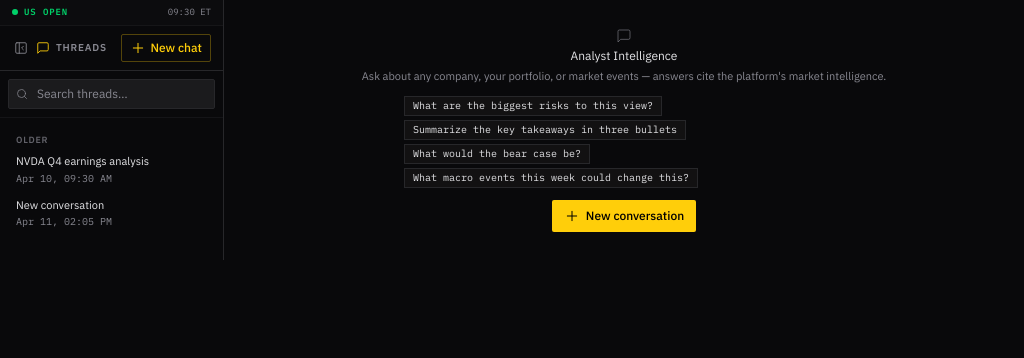
Scenario: Chat page — error state with Retry (Round 1 Foundation) › failed send surfaces an error banner with a Retry button that resubmits
This screenshot has width=1024, height=358.
Click the button with aria-label "start new chat": (166, 48) x1=121 y1=34 x2=211 y2=62
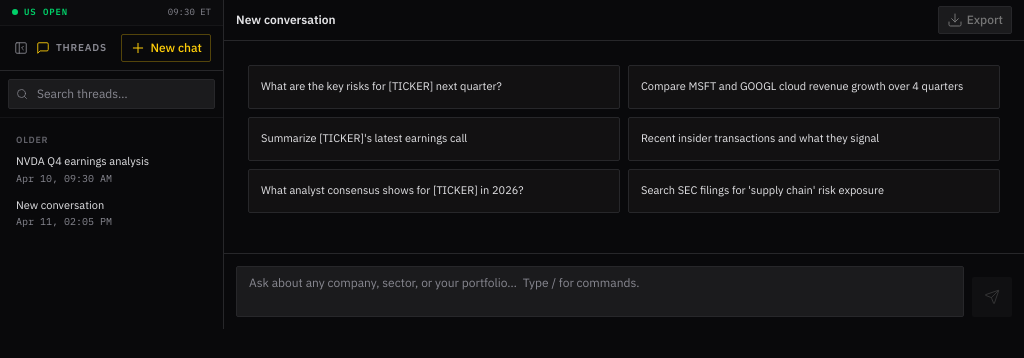
Replace the text in the text box named "chat message input" with "doomed question": (600, 291) x1=236 y1=266 x2=964 y2=317
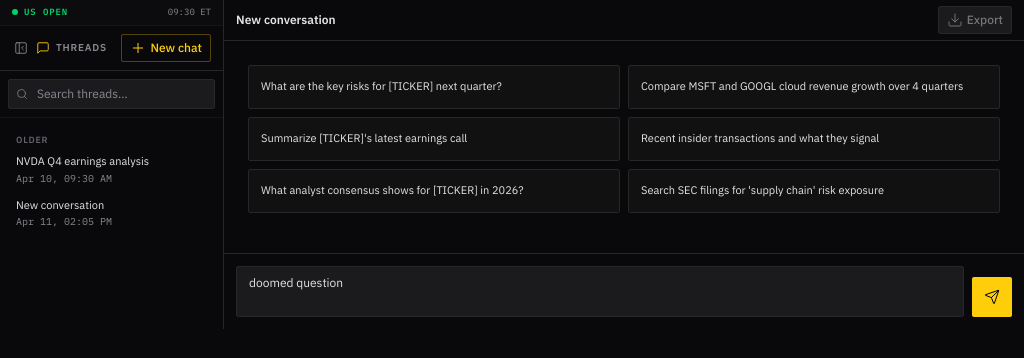
Press Enter in the text box named "chat message input", box x1=236 y1=266 x2=964 y2=317
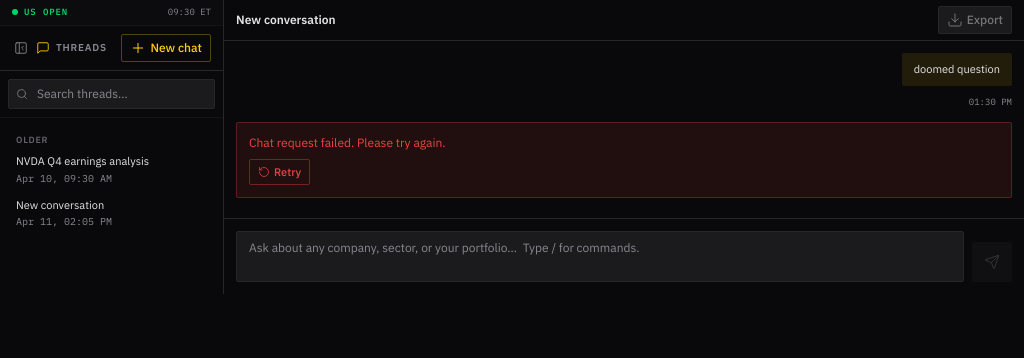
Expected: the message reads "Chat request failed. Please try again. Retry", x1=249 y1=134 x2=446 y2=150
// Retry resubmits the SAME question.
Click the button "Retry": (280, 172) x1=249 y1=158 x2=310 y2=184
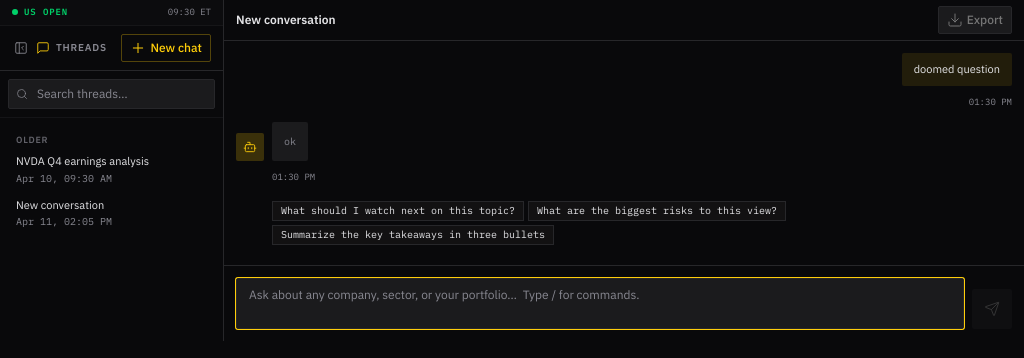
Expected: the text "doomed question" is shown, x1=914 y1=61 x2=1000 y2=78
Expected: the message "Chat request failed. Please try again. Retry" is gone
